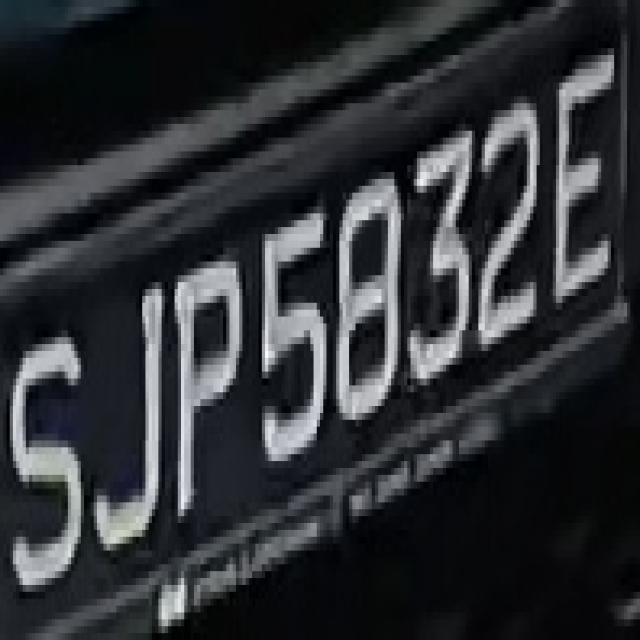2: (475, 110, 540, 379)
3: (411, 96, 468, 406)
5: (249, 186, 326, 488)
8: (330, 165, 410, 454)
E: (550, 48, 618, 344)
J: (94, 262, 168, 598)
P: (168, 220, 246, 551)
S: (6, 303, 97, 619)
